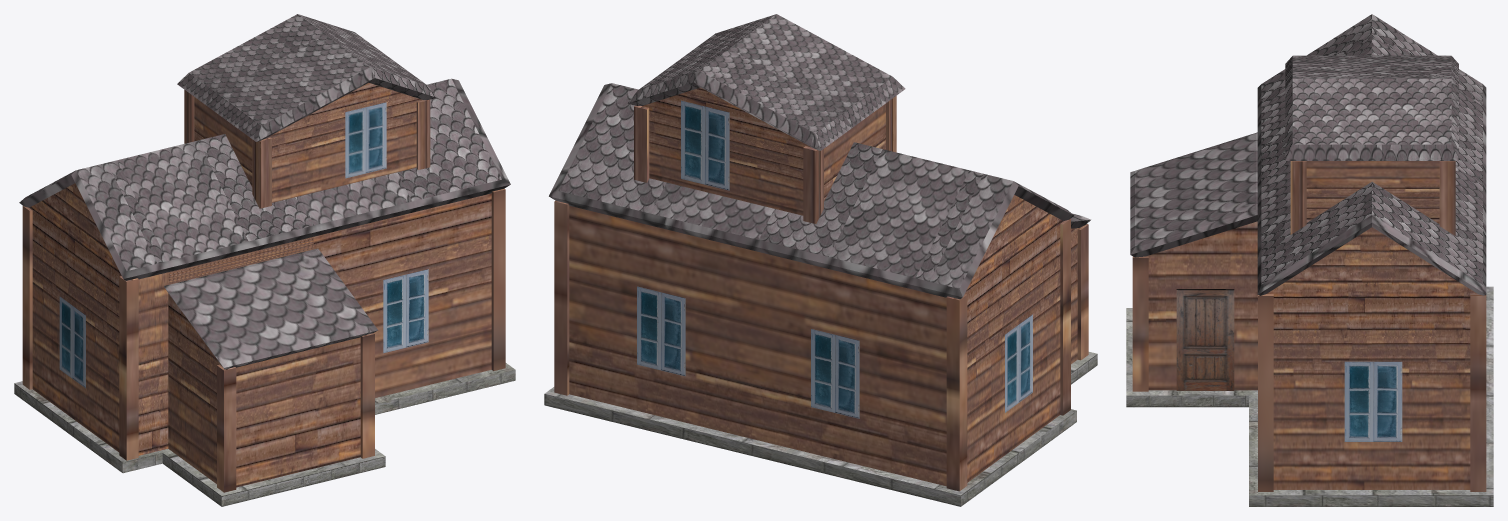
The model's file is house3.fbx.
The picture shows the model from 3 angles, left to right: view 1: azimuth 30°, elevation 25°; view 2: azimuth 150°, elevation 25°; view 3: azimuth 270°, elevation 25°; orthographic projection. The views are drawn at different scales.
Visible parts, largest first — view 1: Cube.007; view 2: Cube.007; view 3: Cube.007.
Boxes of the visible parts, box(x1,y1,x2,y2) form: Cube.007: box(14, 14, 515, 506); Cube.007: box(544, 14, 1097, 506); Cube.007: box(1126, 14, 1493, 506).
Bounding box in the file's own units: 449 × 363 × 334.
1 material, 1 textured.
